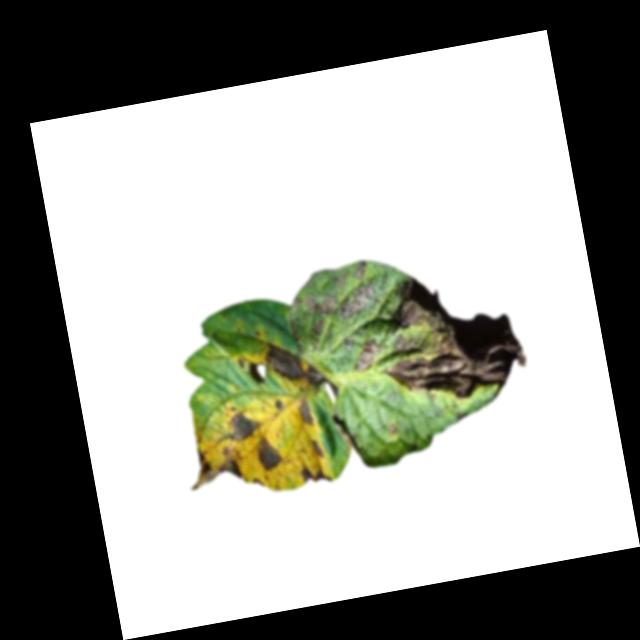Early_blight: (368, 259, 534, 411), (306, 260, 380, 324), (261, 334, 327, 398), (184, 442, 246, 494), (221, 408, 260, 446), (348, 338, 385, 376), (254, 435, 283, 475), (298, 462, 332, 488), (293, 398, 316, 430), (243, 362, 267, 390), (310, 439, 325, 462), (272, 397, 284, 410)
